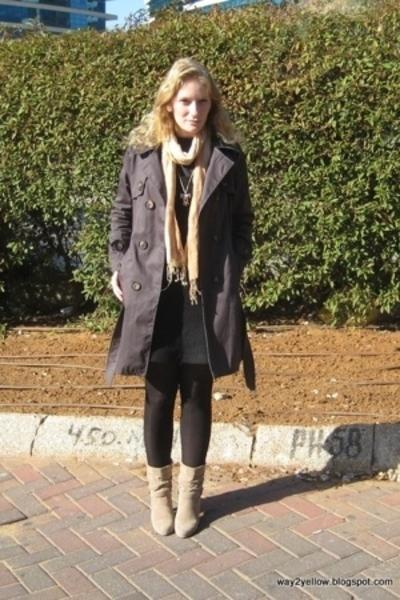jacket: (98, 144, 269, 390)
pants: (136, 363, 212, 466)
shirt: (140, 115, 234, 389)
shoe: (148, 458, 208, 538)
